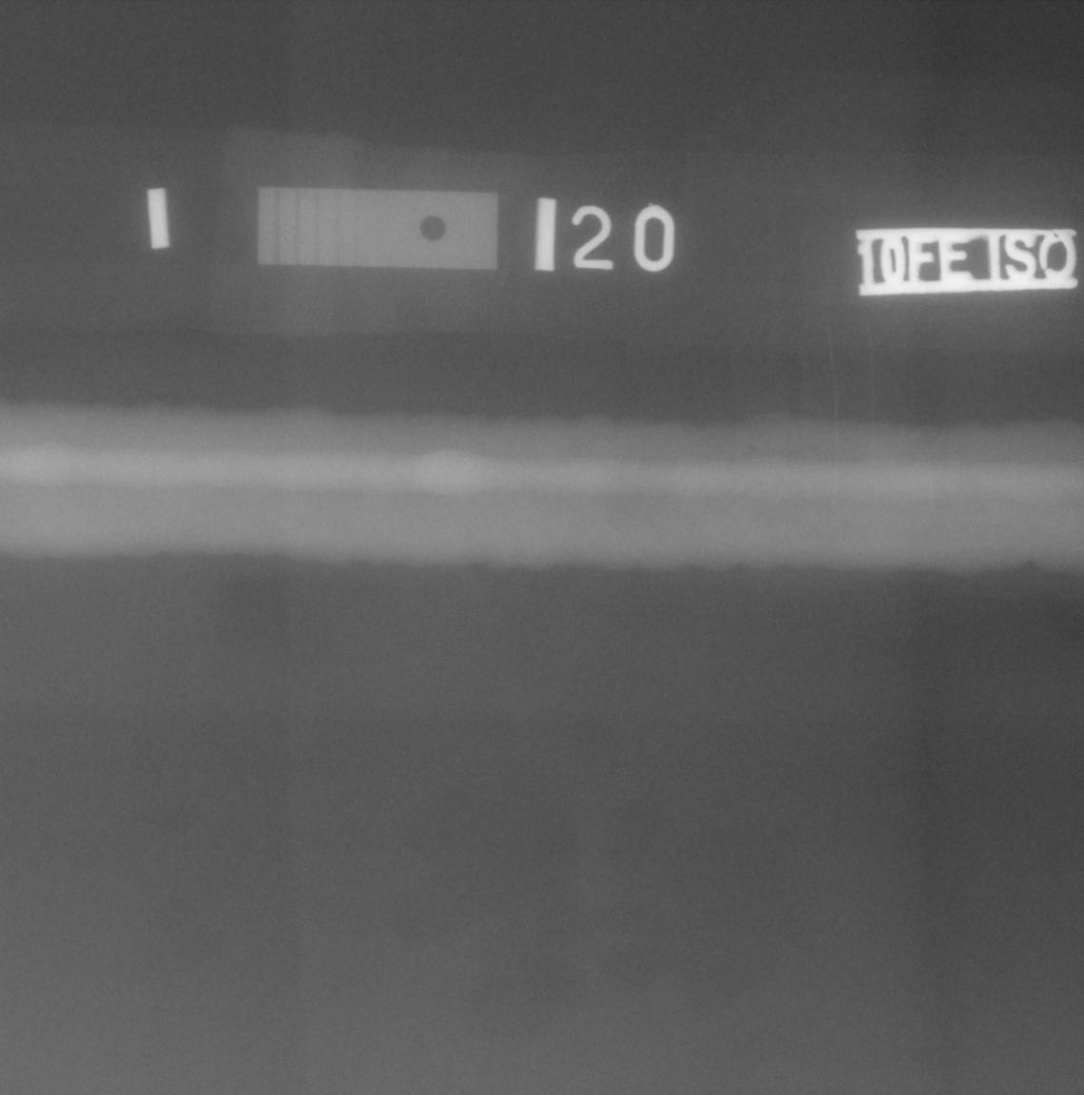Reference Standard 1: (259, 187, 498, 270)
